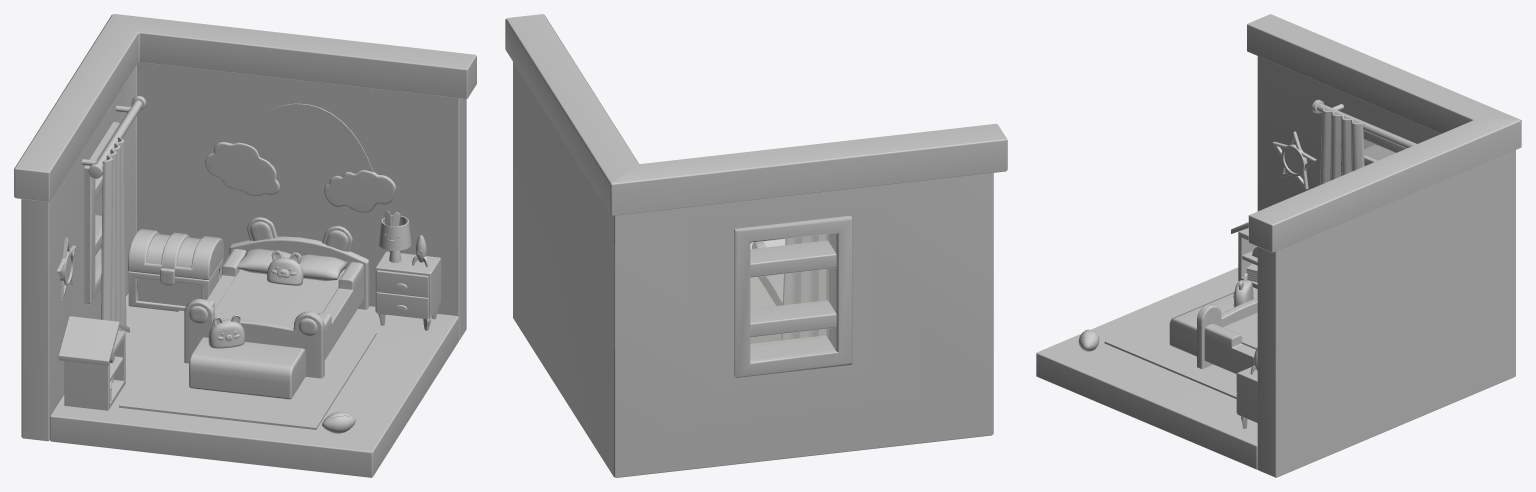
Rendered from Childrens_Room_18.fbx.
3 views of the same model, side by side, from view 1: azimuth 30°, elevation 25°; view 2: azimuth 150°, elevation 25°; view 3: azimuth 270°, elevation 25° (orthographic). The views are drawn at different scales.
Parts seen in each view (by area): view 1: Room_18_Wall_1, Room_18_Floor_1, Room_18_Bed_1, Room_18_Rainbow_signboard_1, Room_18_Carpet_1, Room_18_Chest_1, Room_18_Padded_stool_1, Room_18_House_toy, Room_18_Curtains_1, Room_18_Cabinet_1, Room_18_Window_1, Room_18_Lamp_1 (+6 smaller); view 2: Room_18_Wall_1, Room_18_Window_1, Room_18_Curtains_1, Room_18_Bed_1; view 3: Room_18_Wall_1, Room_18_Floor_1, Room_18_Carpet_1, Room_18_Bed_1, Room_18_Curtains_1, Room_18_Padded_stool_1, Room_18_Cabinet_1, Room_18_Mirror_1, Room_18_House_toy, Room_18_Window_1.
Boxes of the visible parts, left/top/right/bottom form: Room_18_Wall_1: left=14, top=14, right=476, bottom=441; Room_18_Floor_1: left=49, top=292, right=458, bottom=477; Room_18_Bed_1: left=184, top=217, right=369, bottom=378; Room_18_Rainbow_signboard_1: left=205, top=103, right=396, bottom=212; Room_18_Carpet_1: left=119, top=310, right=376, bottom=429; Room_18_Chest_1: left=128, top=229, right=223, bottom=311; Room_18_Padded_stool_1: left=189, top=337, right=305, bottom=399; Room_18_House_toy: left=58, top=316, right=129, bottom=410; Room_18_Curtains_1: left=82, top=95, right=146, bottom=325; Room_18_Cabinet_1: left=375, top=251, right=441, bottom=330; Room_18_Window_1: left=84, top=122, right=119, bottom=304; Room_18_Lamp_1: left=379, top=210, right=411, bottom=262; Room_18_Wall_1: left=505, top=14, right=1007, bottom=477; Room_18_Window_1: left=734, top=215, right=852, bottom=377; Room_18_Curtains_1: left=781, top=234, right=826, bottom=340; Room_18_Bed_1: left=750, top=241, right=783, bottom=343; Room_18_Wall_1: left=1247, top=14, right=1521, bottom=477; Room_18_Floor_1: left=1036, top=267, right=1257, bottom=469; Room_18_Carpet_1: left=1104, top=286, right=1257, bottom=398; Room_18_Bed_1: left=1197, top=298, right=1257, bottom=373; Room_18_Curtains_1: left=1311, top=99, right=1416, bottom=184; Room_18_Padded_stool_1: left=1169, top=292, right=1257, bottom=356; Room_18_Cabinet_1: left=1236, top=367, right=1257, bottom=428; Room_18_Mirror_1: left=1272, top=131, right=1316, bottom=189; Room_18_House_toy: left=1231, top=222, right=1257, bottom=288; Room_18_Window_1: left=1363, top=130, right=1405, bottom=165.
Size of the model in its own units: 734 by 417 by 713.
